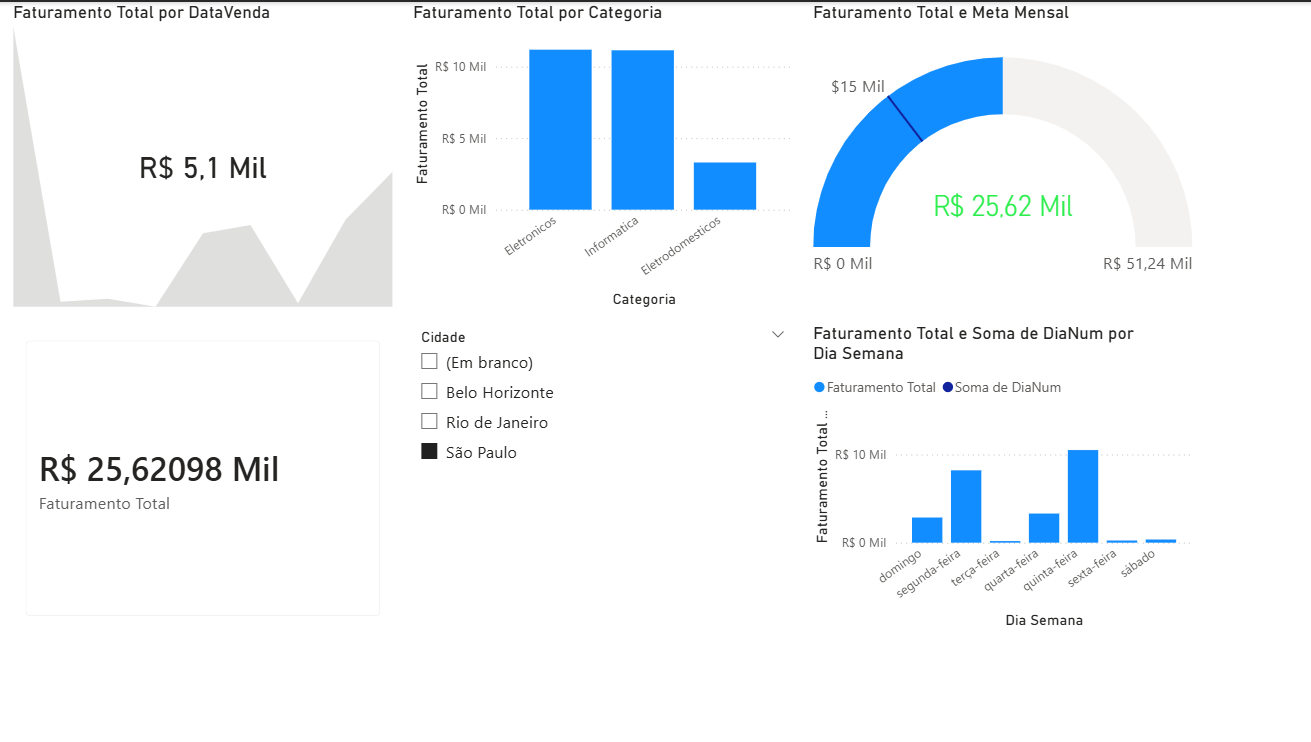

This screenshot's page, from the dashboard's own definition file:
{"tool":"powerbi","page":{"name":"Página 1","canvas":[1280,720],"ordinal":0},"visuals":[{"type":"kpi","fields":{"Indicator":["Vendas.Faturamento Total"],"TrendLine":["Vendas.DataVenda"]},"box":[9.7,0,379.3,301.5],"z":0},{"type":"cardVisual","fields":{"Data":["Vendas.Faturamento Total"]},"box":[10,312,379,302],"z":1000},{"type":"columnChart","fields":{"Category":["Vendas.Categoria"],"Y":["Vendas.Faturamento Total"]},"box":[399,0,379,302],"z":2000},{"type":"slicer","fields":{"Values":["Vendas.Cidade"]},"box":[399,312,379,302],"z":3000},{"type":"gauge","fields":{"Y":["Vendas.Faturamento Total"],"TargetValue":["Vendas.Meta Mensal"]},"box":[788,0,379,302],"z":4000},{"type":"columnChart","fields":{"Category":["dCalendario.Dia Semana"],"Y":["Vendas.Faturamento Total","Sum(dCalendario.DiaNum)"]},"box":[788,312,379,302],"z":4001}]}

Visuals, with their boxes in screenshot pixels (x1, y1, x2, y2), scaled from the page's 1280x720 canvas onto the 1311x742 screenshot:
kpi - Vendas.Faturamento Total x Vendas.DataVenda: left=10, top=0, right=398, bottom=311
cardVisual - Vendas.Faturamento Total: left=10, top=322, right=398, bottom=633
columnChart - Vendas.Categoria x Vendas.Faturamento Total: left=409, top=0, right=797, bottom=311
slicer - Vendas.Cidade: left=409, top=322, right=797, bottom=633
gauge - Vendas.Faturamento Total x Vendas.Meta Mensal: left=807, top=0, right=1195, bottom=311
columnChart - dCalendario.Dia Semana x Vendas.Faturamento Total: left=807, top=322, right=1195, bottom=633
